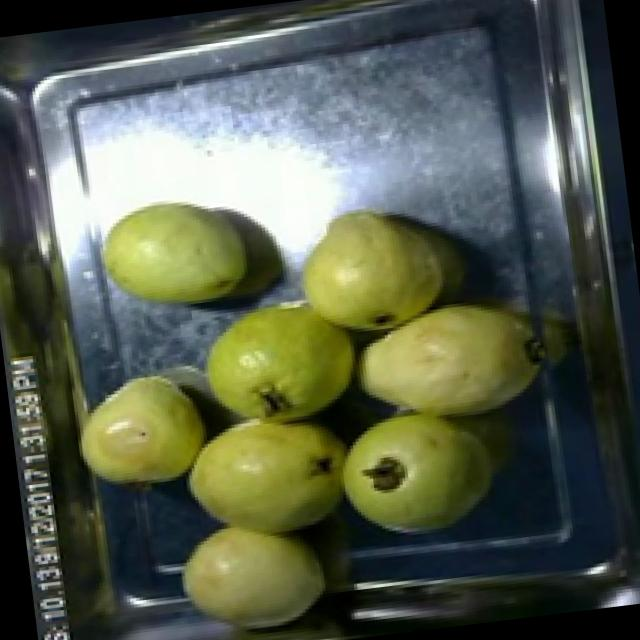Fruit: (330, 280, 552, 446), (278, 184, 477, 358), (180, 282, 382, 432), (169, 409, 369, 556), (322, 393, 504, 553), (80, 176, 270, 322), (164, 503, 342, 640), (62, 356, 221, 504)
